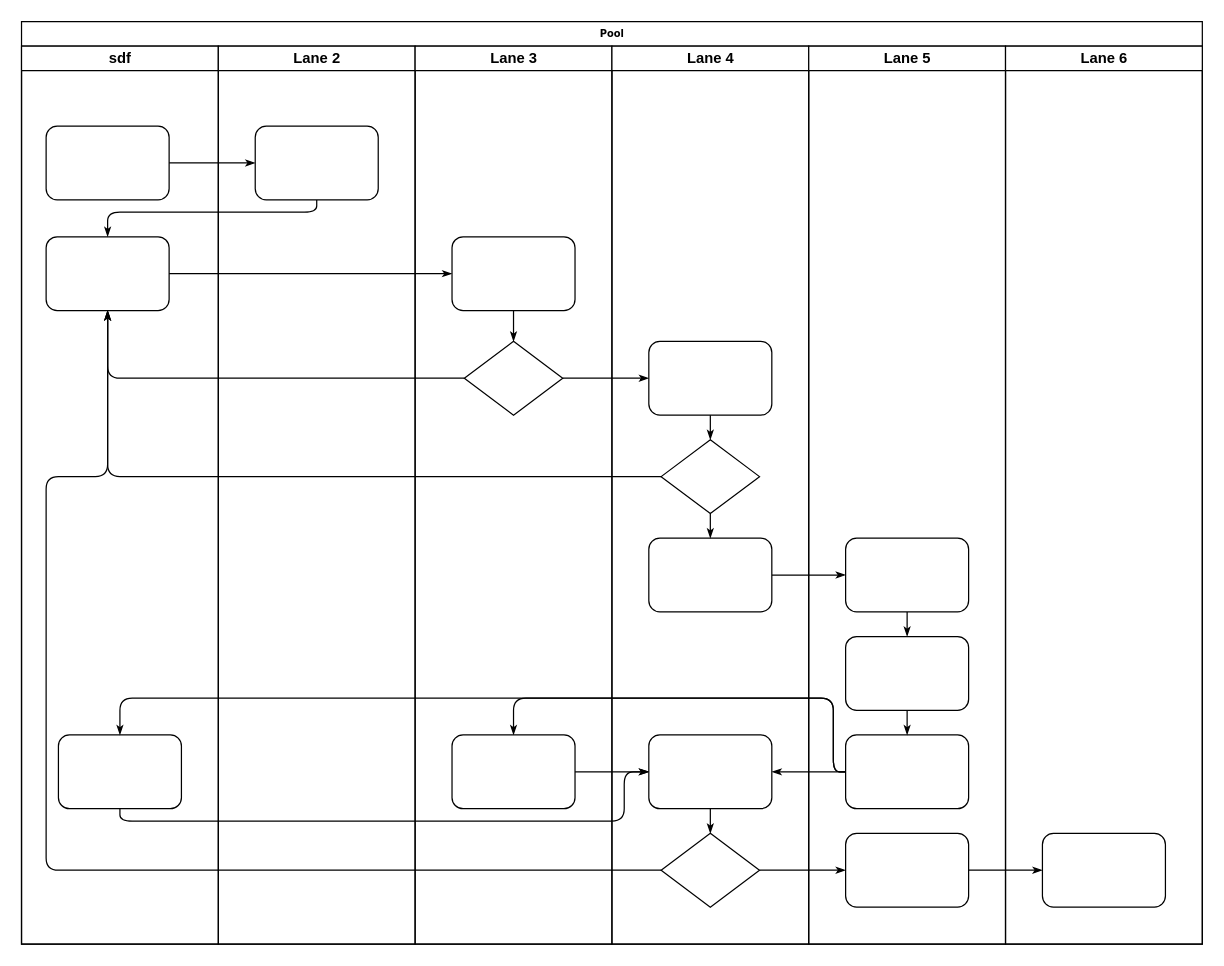
The diagram is 1224 pixels wide and 966 high, and some of its shapes have lost their labels. Here are the shapes that lost their labels. From the top down, the centre of each, then its label:
the point at 107,162: dfdfaad
the point at 107,273: fdsfsdf
